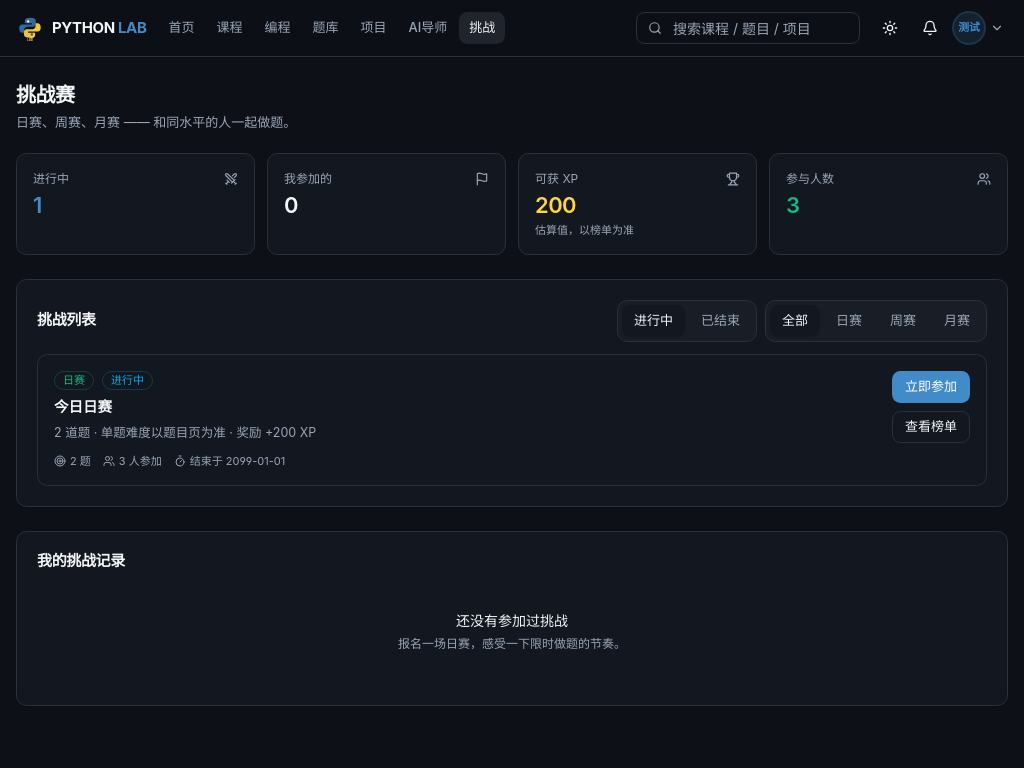
Test: challenges 页面 · 报名 in-flight 守卫（缺陷 C） › 成功后按钮变为「已报名」并保持禁用
Click the button "立即参加". click: {"x": 931, "y": 386}
box: [892,370,970,402]
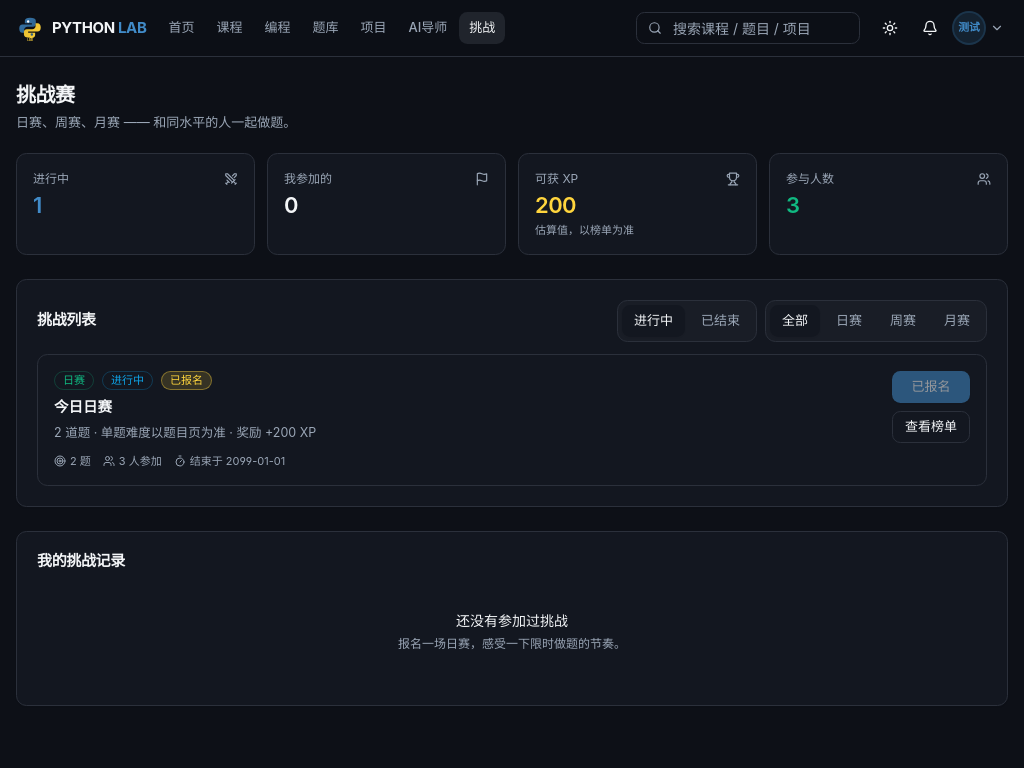
Expected: the button "已报名" is disabled, [892,370,970,402]
